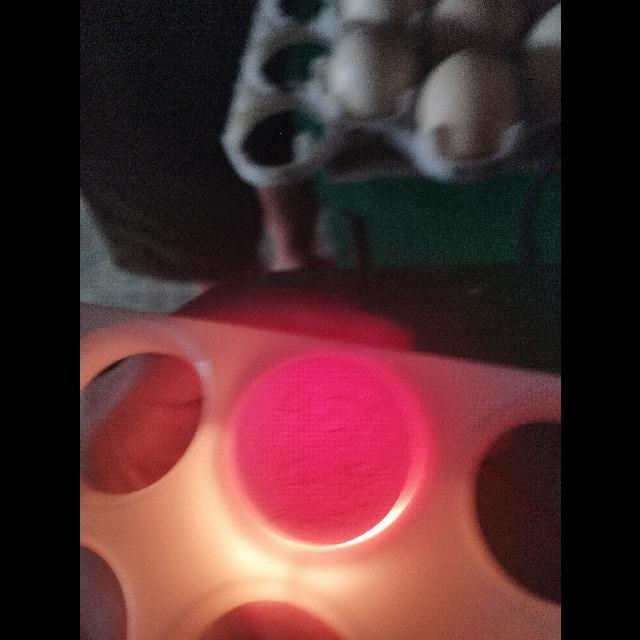Infertile: (225, 348, 420, 554)
